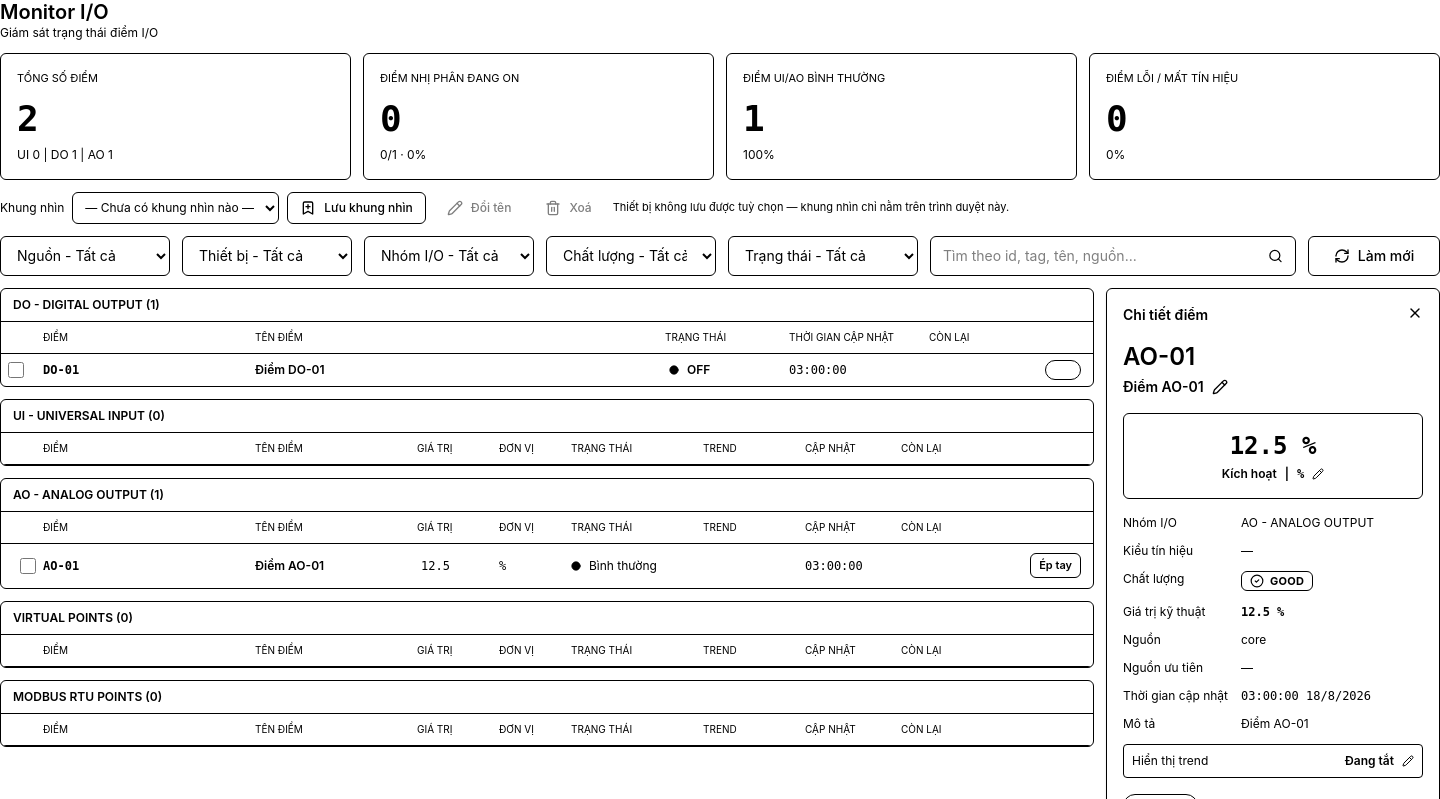
Test case: T57-1.4 — hộp thoại ép tay hàng loạt › nút Áp dụng bị CHẶN cho tới khi tick ô xác nhận — ma sát cố ý
Step 1. Click the checkbox named "Chọn DO-01 — Điểm DO-01 để ép tay hàng loạt" → [16, 370], box x1=8 y1=362 x2=24 y2=378
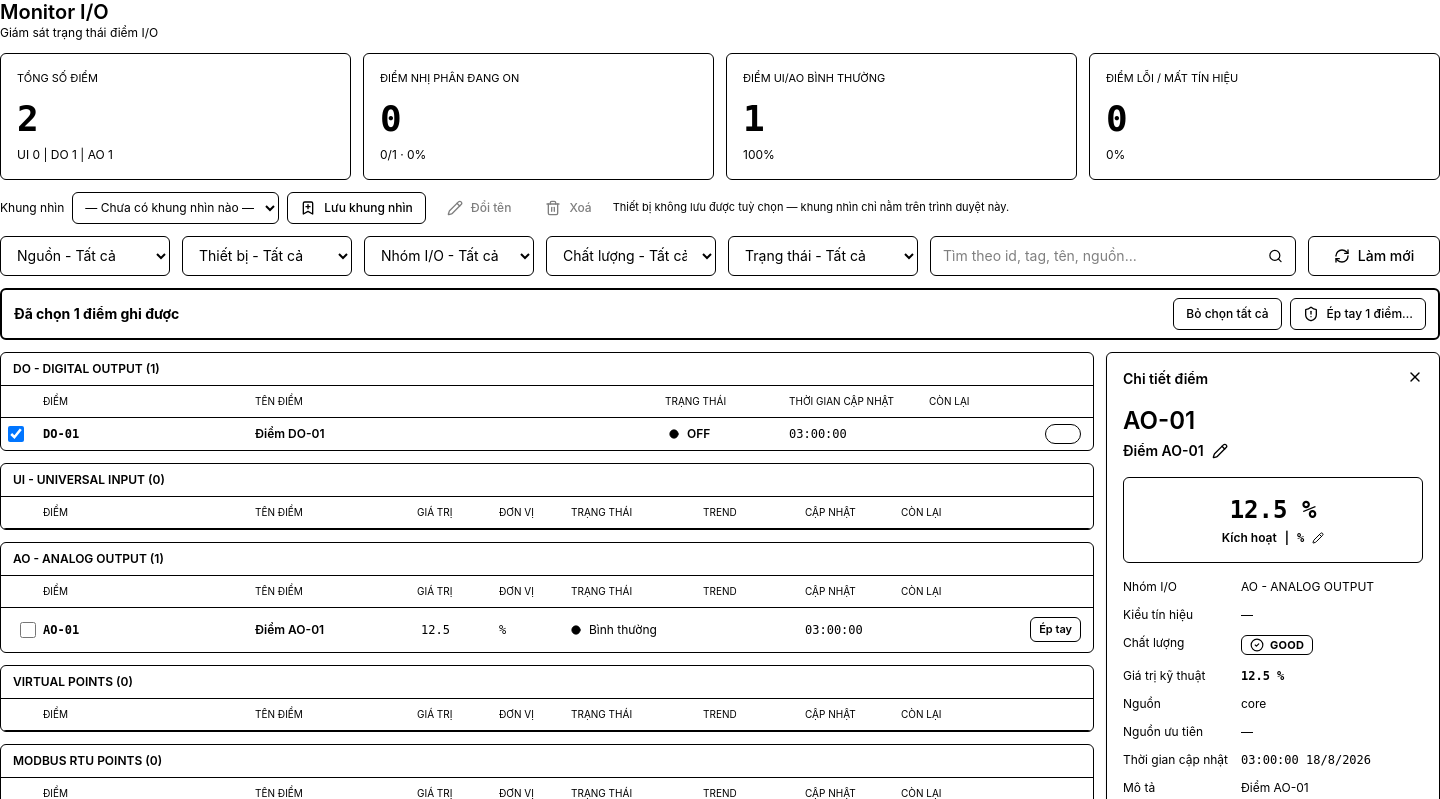
Step 2. Click the checkbox named "Chọn AO-01 — Điểm AO-01 để ép tay hàng loạt" → [28, 630], box x1=20 y1=622 x2=36 y2=638
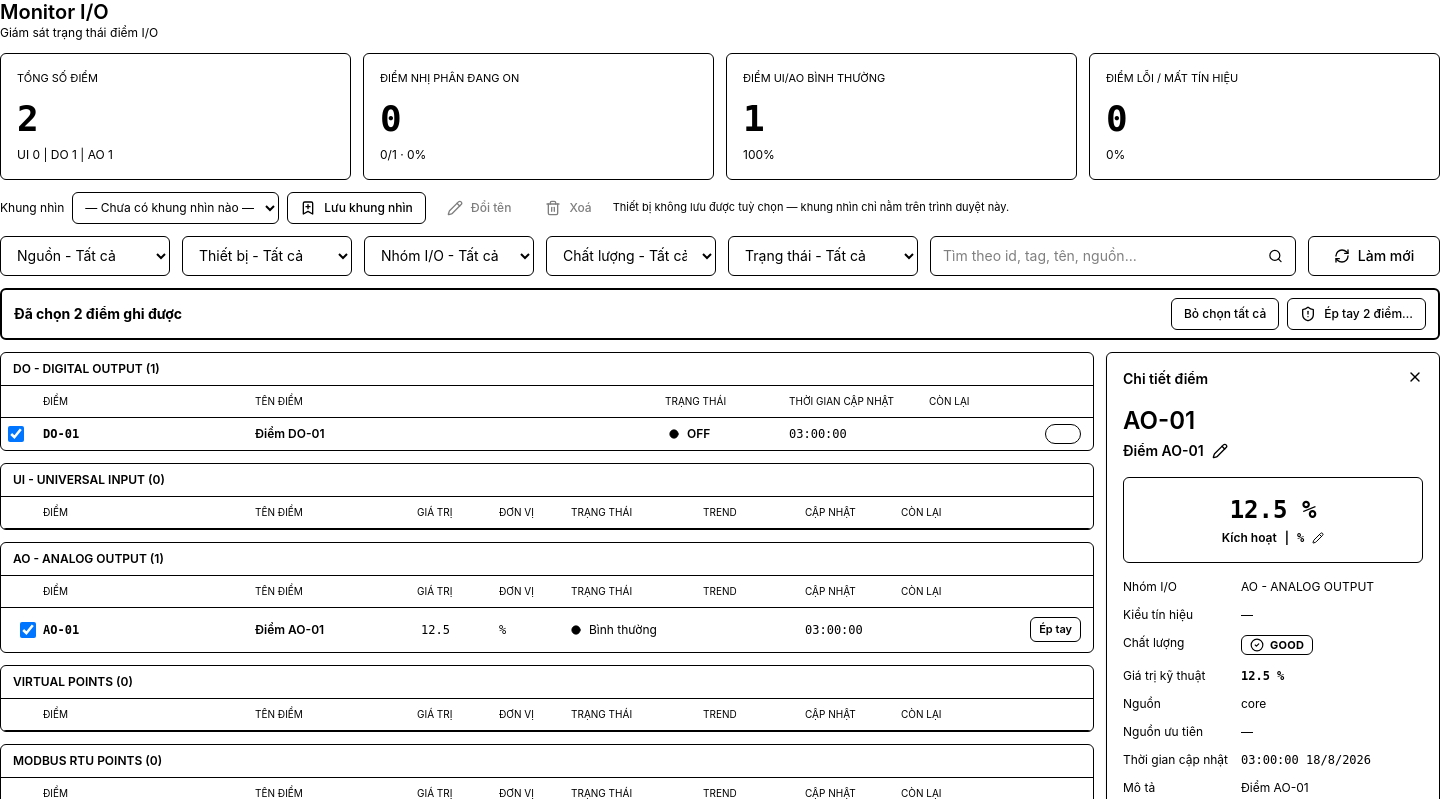
Step 3. Click the button "Ép tay 2 điểm…" → [1357, 314], box x1=1287 y1=298 x2=1426 y2=330
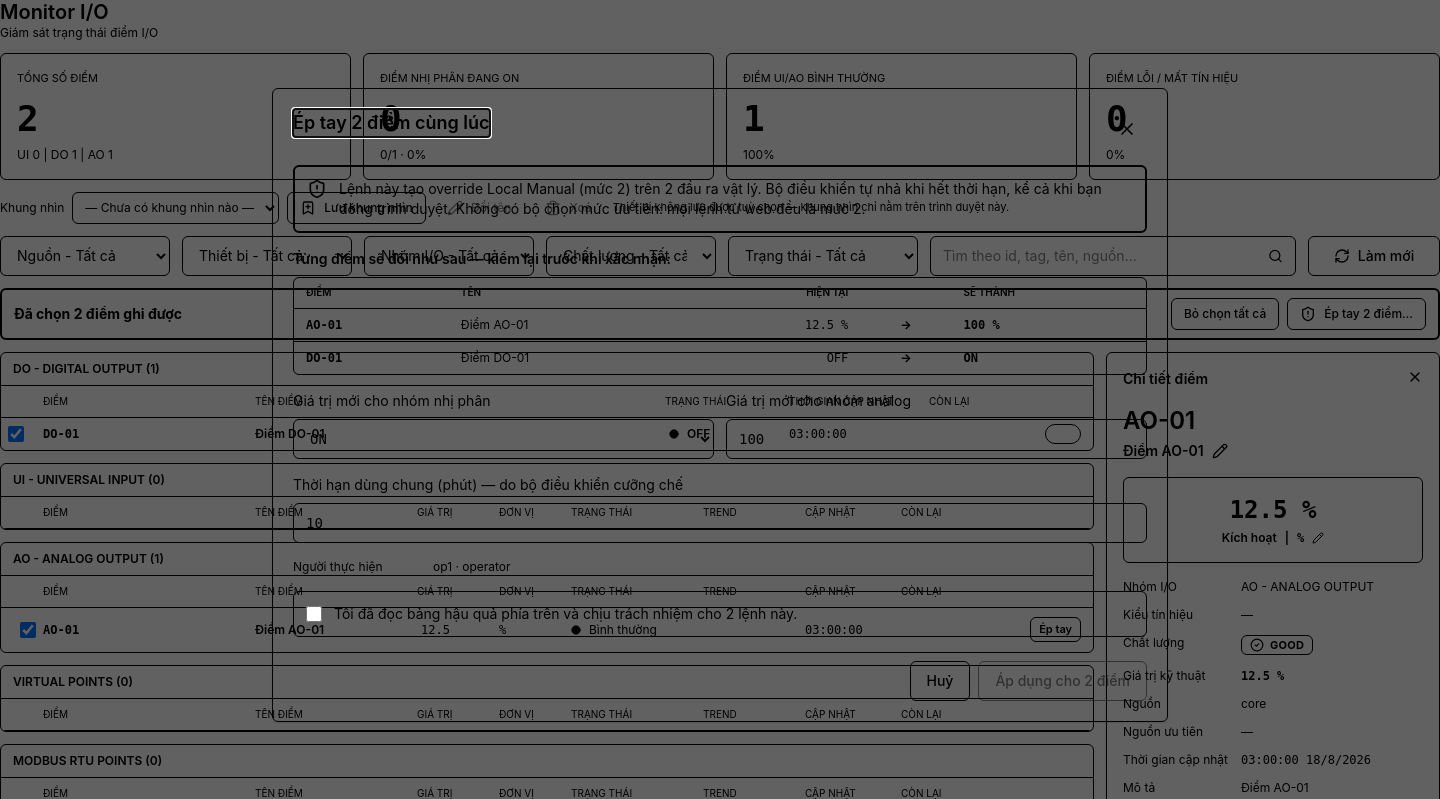
Result: the button "Áp dụng cho 2 điểm" is disabled at x1=978 y1=661 x2=1147 y2=701
Step 4. Click the checkbox labelled "chịu trách nhiệm" → [314, 614], box x1=306 y1=606 x2=322 y2=622
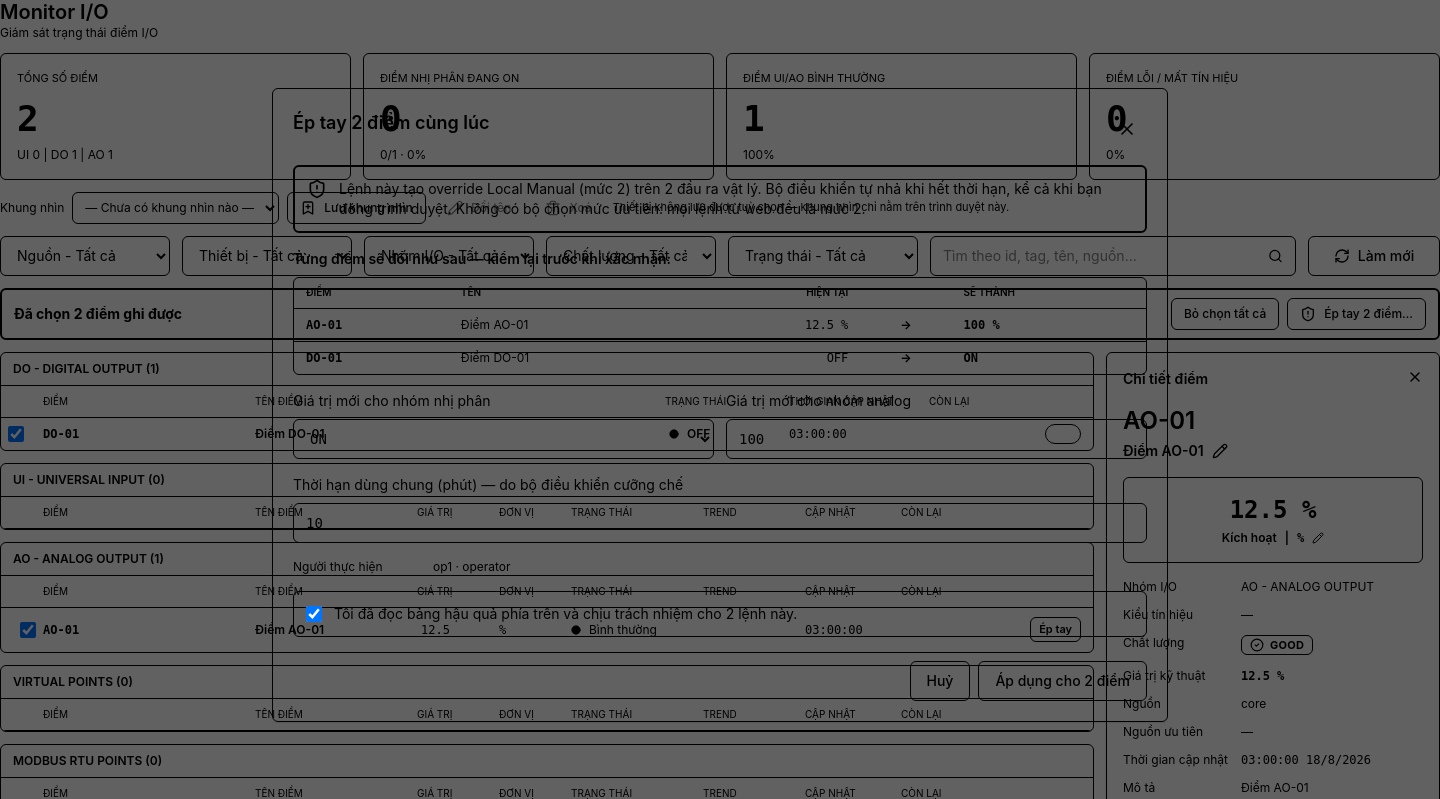
Result: the button "Áp dụng cho 2 điểm" is enabled at x1=978 y1=661 x2=1147 y2=701
